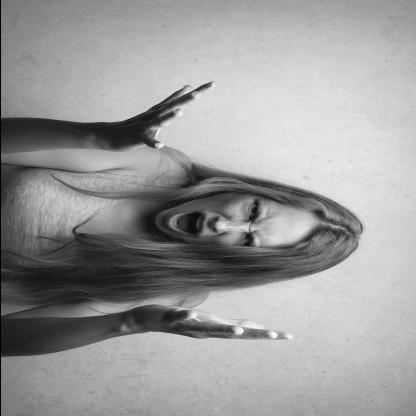Eye: (243, 199, 259, 220), (235, 234, 253, 247)
Mouth: (163, 210, 207, 237)
Nose: (210, 216, 246, 234)
